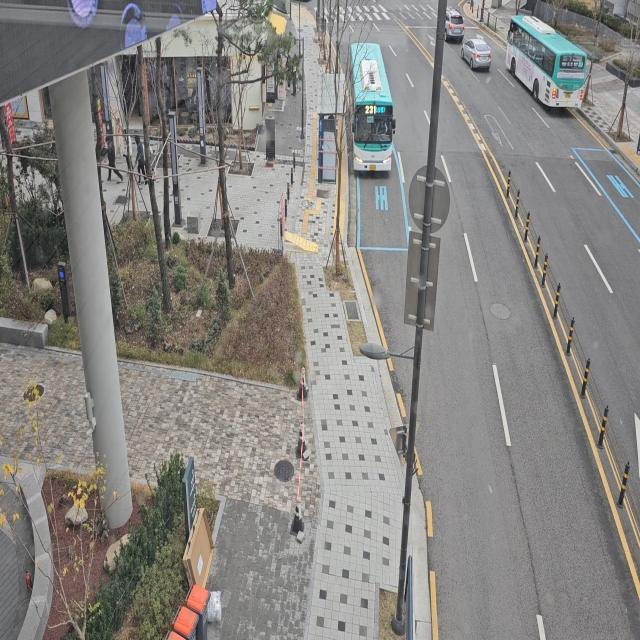Bus: (498, 5, 594, 116), (348, 34, 395, 190)
Car: (460, 31, 494, 72), (441, 0, 466, 48)
